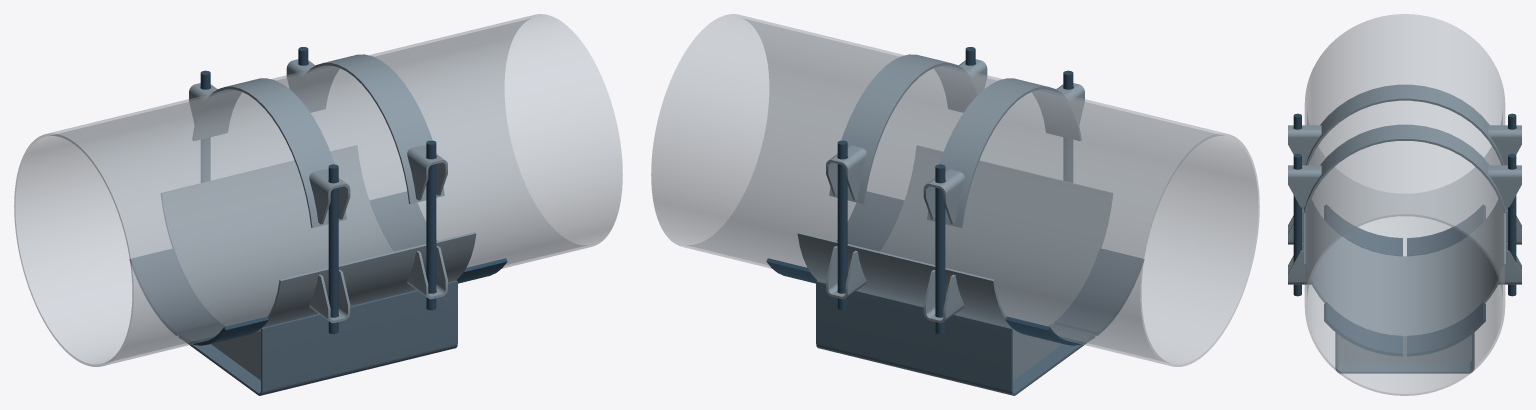
File: TS-671.00.00-13-opora-dn720-H150.glb
3 views of the same model, side by side, from view 1: azimuth 30°, elevation 25°; view 2: azimuth 150°, elevation 25°; view 3: azimuth 270°, elevation 25° (orthographic). The views are drawn at different scales.
Parts seen in each view (by area): view 1: truba, podushka_0, skoba_1, bugel_podushka_-1_0, bugel_podushka_1_0, upor_-1_1, upor_1_1, shpilka_1_-1, shpilka_-1_-1, bugel_ushko_-1_2, rebro_2, bugel_ushko_1_2 (+5 smaller); view 2: truba, podushka_0, skoba_1, bugel_podushka_-1_0, bugel_podushka_1_0, upor_-1_-1, upor_1_-1, shpilka_1_1, shpilka_-1_1, bugel_ushko_-1_1, rebro_2, bugel_ushko_1_1 (+5 smaller); view 3: truba, podushka_0, bugel_podushka_1_0, bugel_podushka_-1_0, rebro_6, upor_1_1, upor_1_-1, skoba_1, upor_-1_1, upor_-1_-1, bugel_ushko_1_1, bugel_ushko_1_2 (+8 smaller).
Boxes of the visible parts, x1,y1,x2,y2 form: truba: [14, 14, 622, 366]; podushka_0: [161, 146, 476, 331]; skoba_1: [186, 280, 457, 395]; bugel_podushka_-1_0: [192, 78, 346, 227]; bugel_podushka_1_0: [295, 54, 444, 204]; upor_-1_1: [129, 248, 218, 335]; upor_1_1: [370, 191, 436, 251]; shpilka_1_-1: [426, 140, 436, 310]; shpilka_-1_-1: [328, 164, 338, 334]; bugel_ushko_-1_2: [309, 169, 350, 224]; rebro_2: [211, 331, 260, 380]; bugel_ushko_1_2: [407, 145, 447, 200]; truba: [651, 14, 1259, 366]; podushka_0: [797, 146, 1112, 331]; skoba_1: [816, 280, 1087, 395]; bugel_podushka_-1_0: [927, 78, 1081, 227]; bugel_podushka_1_0: [829, 54, 978, 204]; upor_-1_-1: [1055, 248, 1144, 335]; upor_1_-1: [837, 191, 903, 251]; shpilka_1_1: [837, 140, 847, 310]; shpilka_-1_1: [935, 164, 945, 334]; bugel_ushko_-1_1: [923, 169, 964, 224]; rebro_2: [1013, 331, 1062, 380]; bugel_ushko_1_1: [826, 145, 866, 200]; truba: [1304, 14, 1505, 395]; podushka_0: [1304, 199, 1505, 338]; bugel_podushka_1_0: [1304, 124, 1505, 213]; bugel_podushka_-1_0: [1305, 84, 1504, 165]; rebro_6: [1338, 334, 1471, 364]; upor_1_1: [1407, 302, 1485, 356]; upor_1_-1: [1324, 302, 1402, 356]; skoba_1: [1335, 332, 1474, 373]; upor_-1_1: [1407, 205, 1485, 256]; upor_-1_-1: [1324, 205, 1402, 256]; bugel_ushko_1_1: [1488, 165, 1521, 207]; bugel_ushko_1_2: [1288, 165, 1321, 207].
Bounding box in the file's own units: 1700 × 879 × 839.
